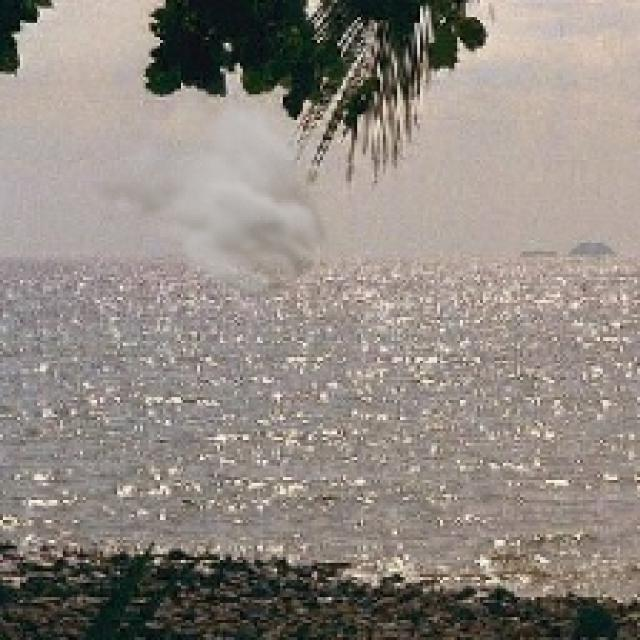smoke: (86, 89, 351, 317)
